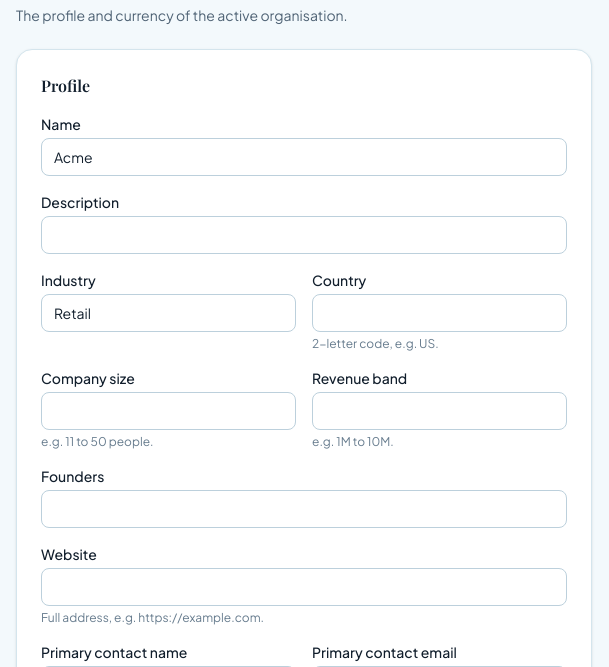
Test: OrganisationSettings › prefills the profile and saves the changes
Check: the field labelled "Industry" holds "Retail", box left=41, top=294, right=296, bottom=332
Replace the text in the field labelled "Name" with "Acme Ltd". click: (304, 157)
box: left=41, top=138, right=567, bottom=176
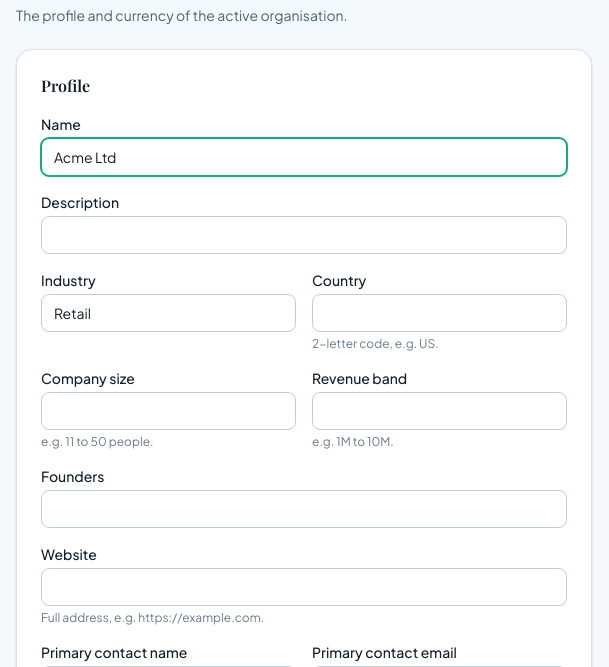
Type "us" into the field labelled "Country". click: (440, 313)
box: left=312, top=294, right=567, bottom=332
(page scrolled)
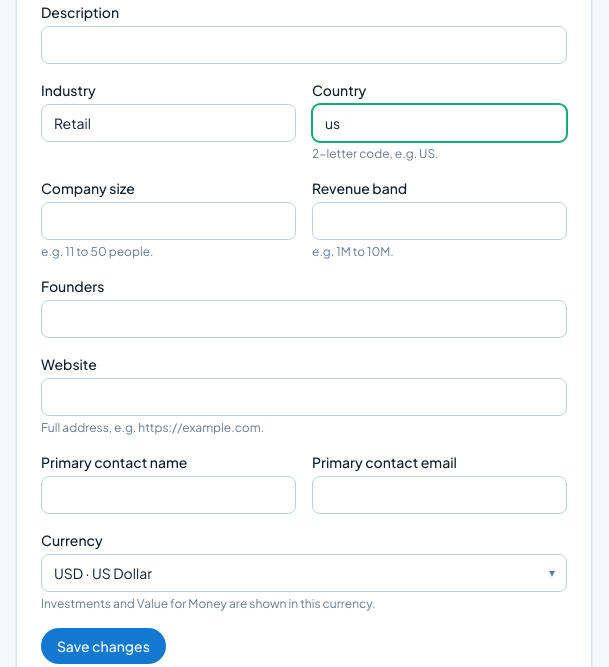
Click the button "Save changes". click: (103, 646)
box: left=41, top=628, right=166, bottom=664
(page scrolled)
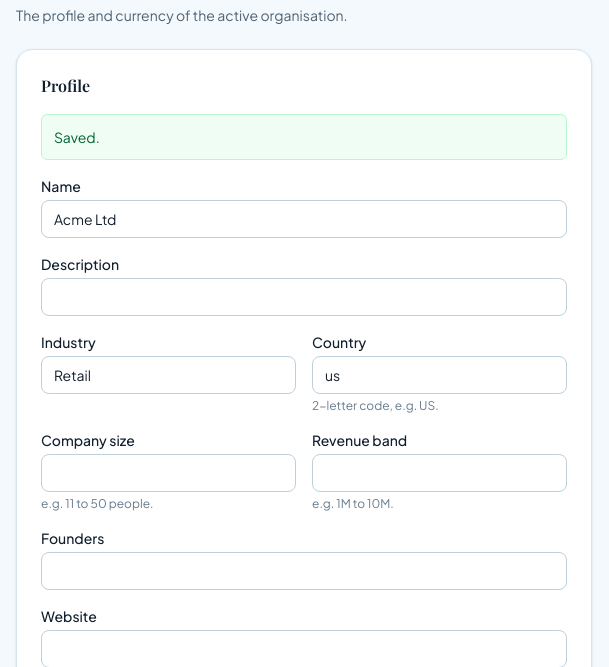
Check: the message reads "Saved.", box left=54, top=128, right=100, bottom=146
